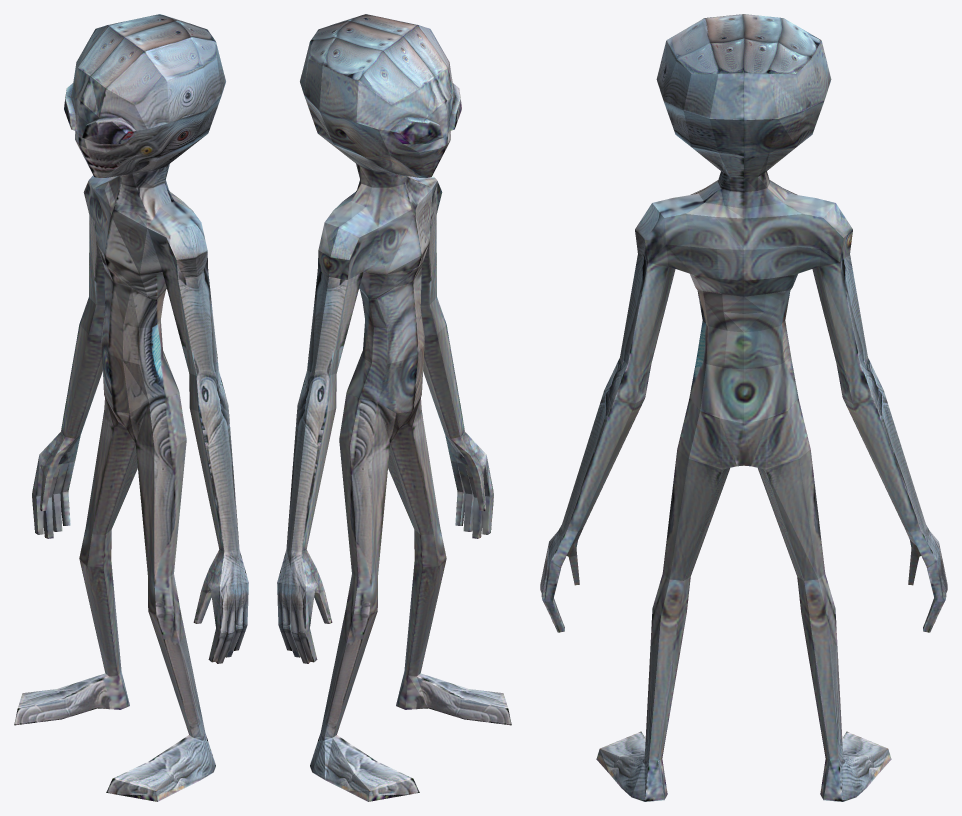
File: alien.obj
3 views of the same model, side by side, from view 1: azimuth 30°, elevation 25°; view 2: azimuth 150°, elevation 25°; view 3: azimuth 270°, elevation 25° (orthographic). The views are drawn at different scales.
Visible parts, largest first — view 1: Mesh_0; view 2: Mesh_0; view 3: Mesh_0.
Boxes of the visible parts, box(x1,y1,x2,y2) form: Mesh_0: box(14, 14, 248, 801); Mesh_0: box(277, 14, 511, 801); Mesh_0: box(540, 14, 947, 801).
Bounding box in the file's own units: 0.2291 × 1 × 0.482.
